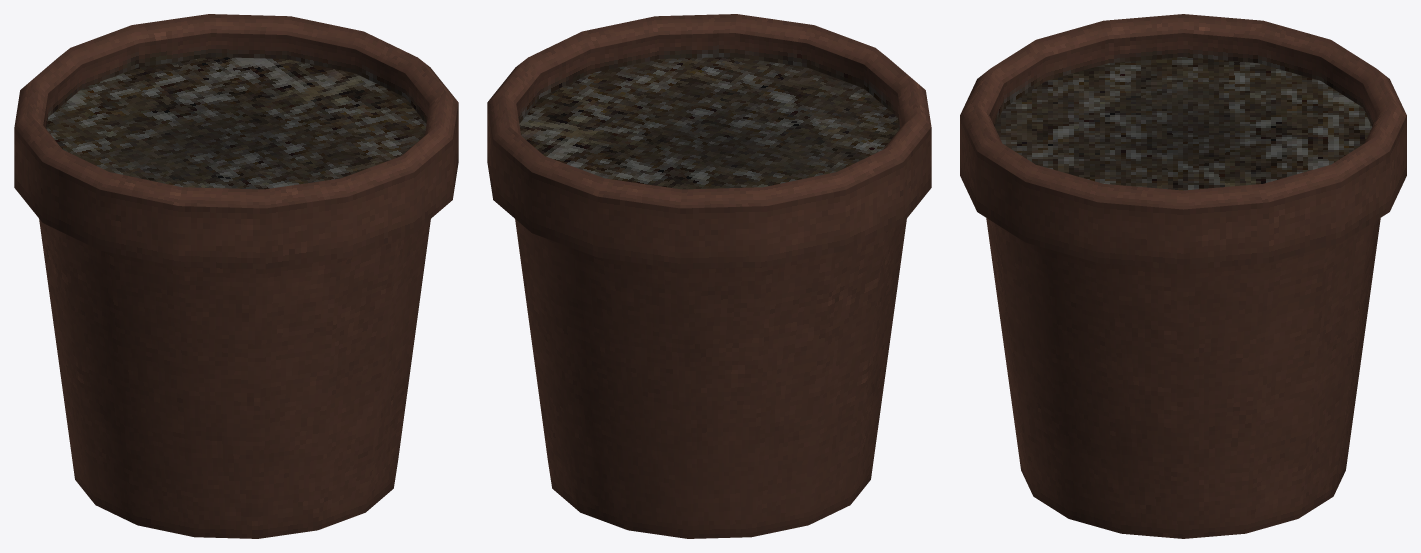
File: planter_pot_mp_1_full.glb
The picture shows the model from 3 angles, left to right: view 1: azimuth 30°, elevation 25°; view 2: azimuth 150°, elevation 25°; view 3: azimuth 270°, elevation 25°; orthographic projection.
Visible parts, largest first — view 1: planter_pot_mp_1_full; view 2: planter_pot_mp_1_full; view 3: planter_pot_mp_1_full.
Boxes of the visible parts, x1=… form: planter_pot_mp_1_full: x1=14, y1=14, x2=458, y2=538; planter_pot_mp_1_full: x1=487, y1=14, x2=931, y2=538; planter_pot_mp_1_full: x1=960, y1=14, x2=1406, y2=538.
Size of the model in its own units: 0.2288 by 0.208 by 0.2288.
Materials: 1 (1 with a texture image).
